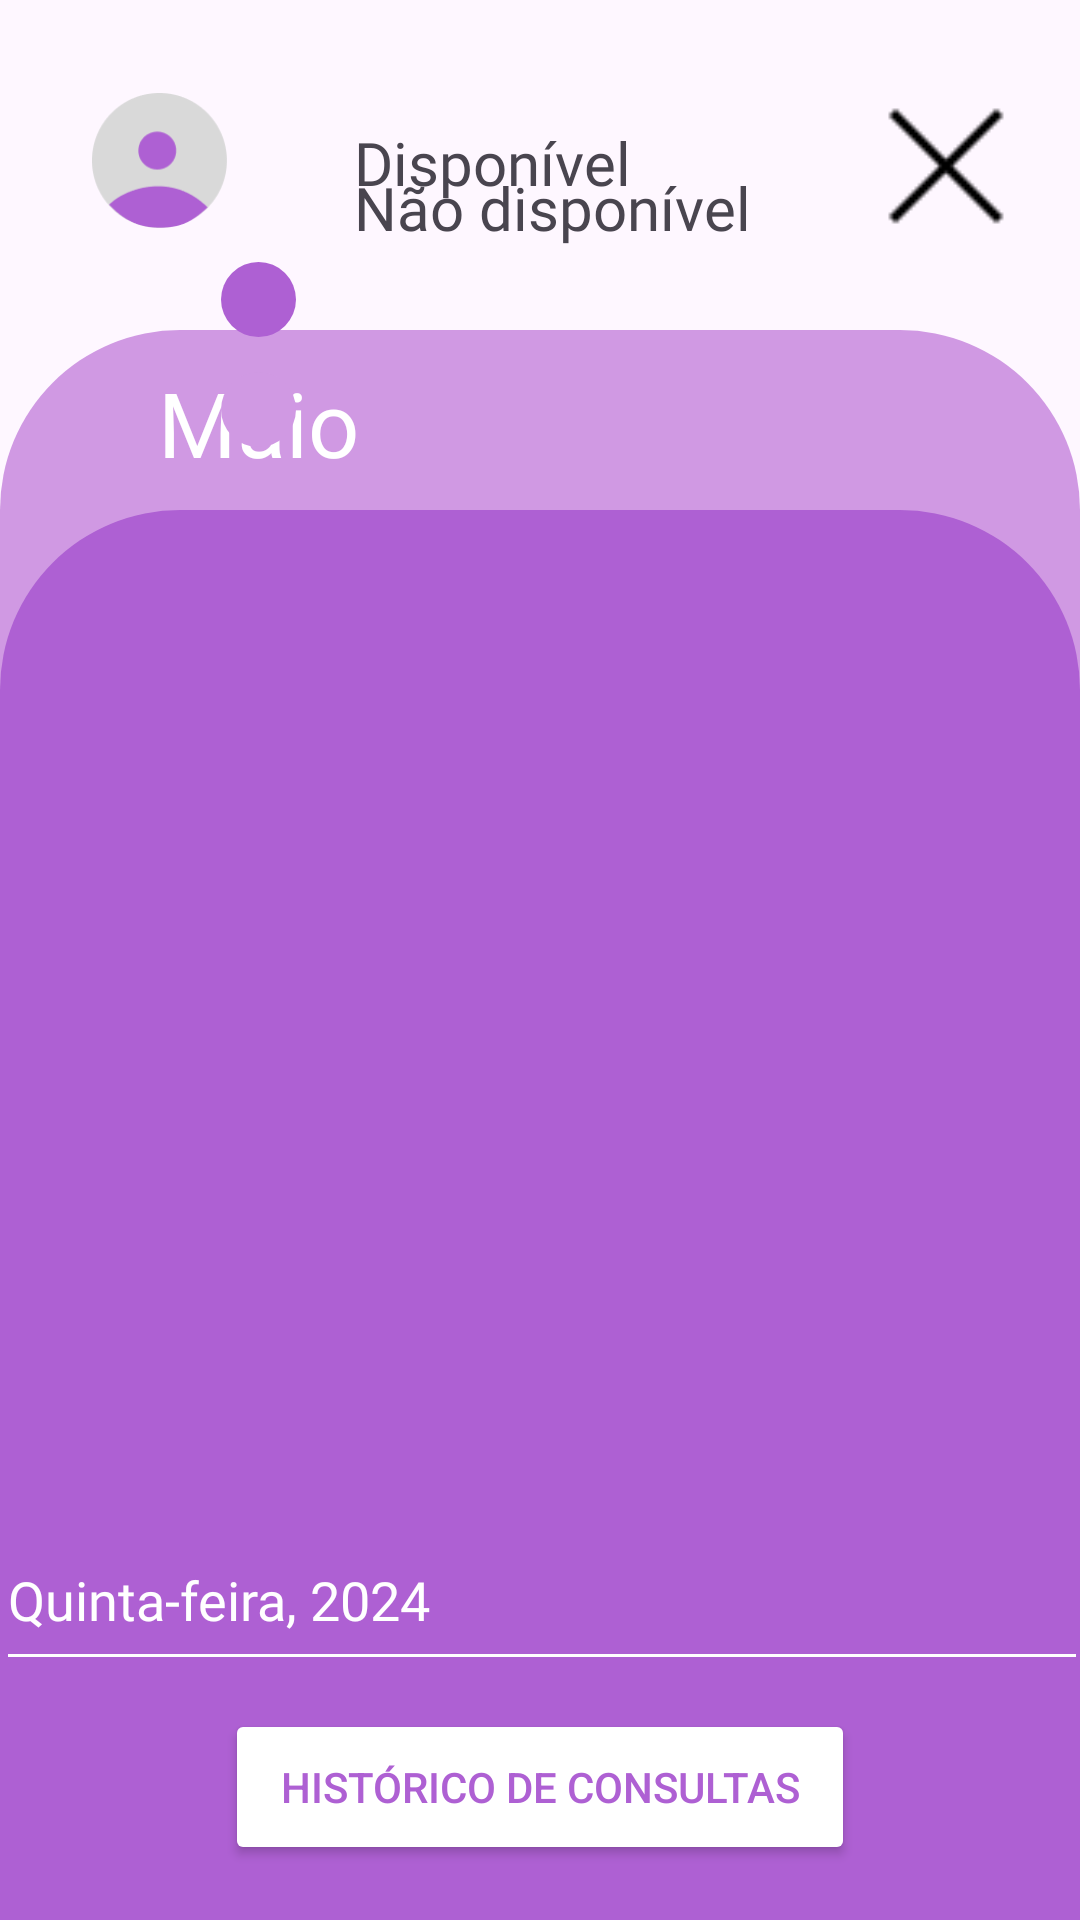

Named icons in this screenshot (1080 x 1920) and their centers, (x=x, y=y):
imgusuario: (x=159, y=160)
imgx: (x=946, y=166)
